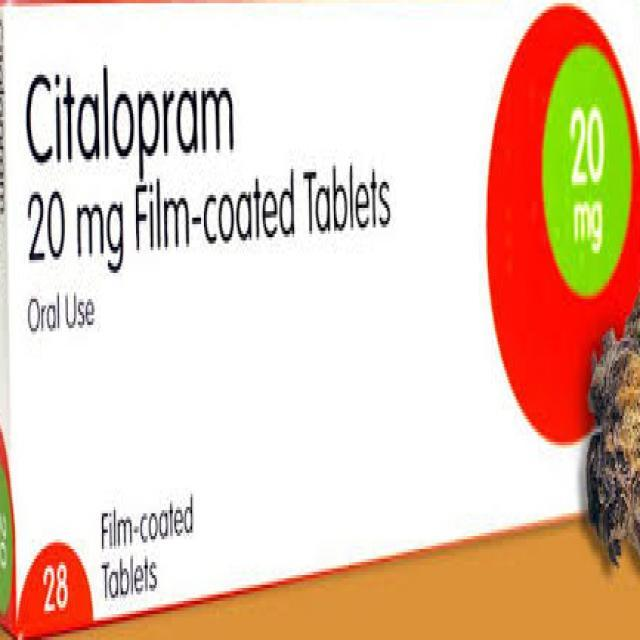drug-name: (24, 70, 238, 171)
